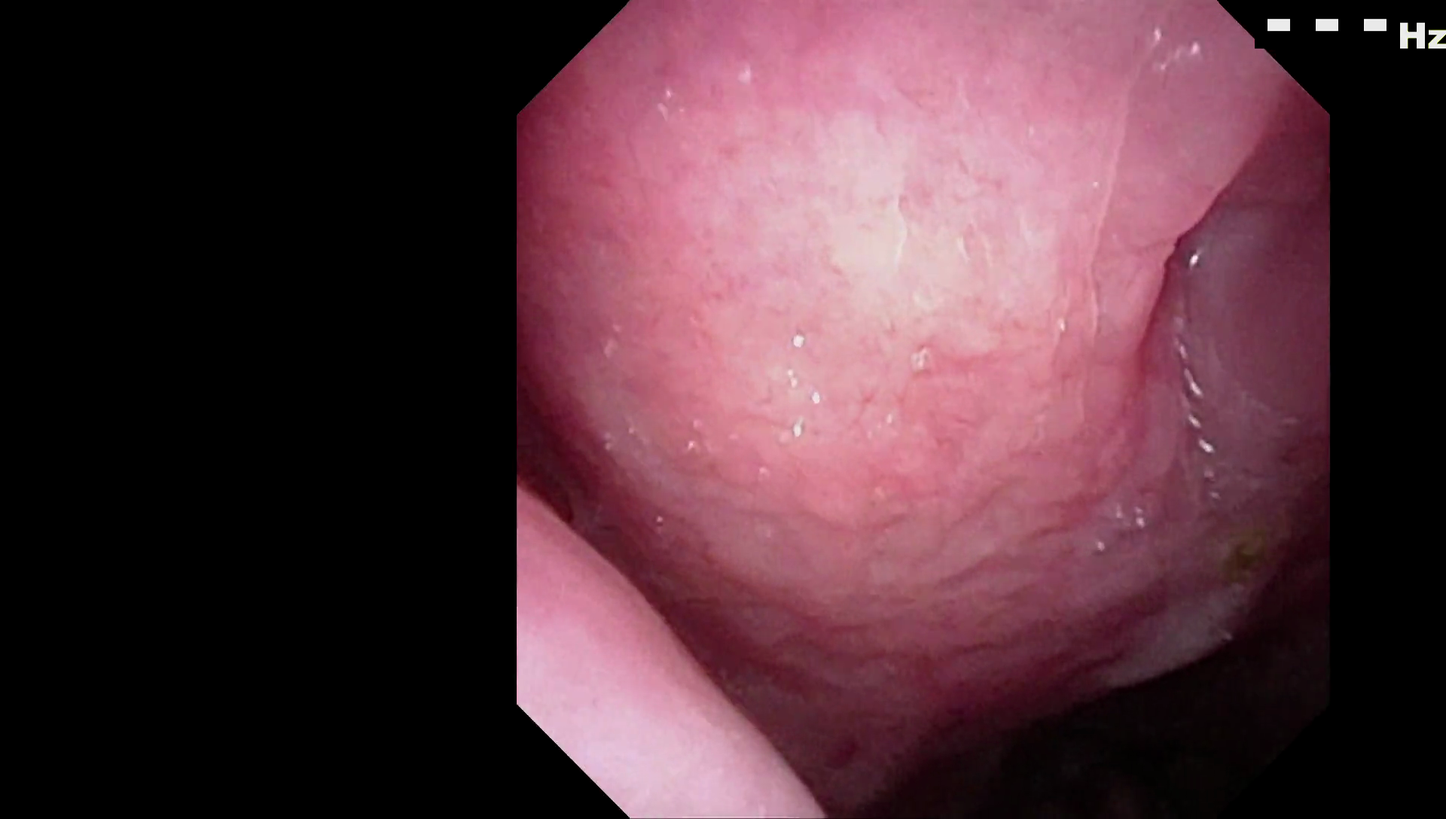close_wall: (612, 60, 1205, 517), (520, 531, 885, 819)
next: (824, 619, 1284, 819)
